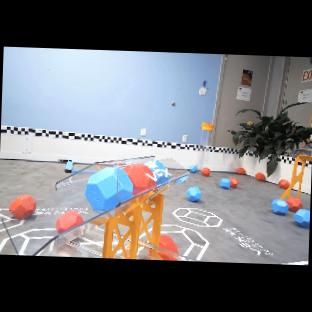Med_goal: (0, 156, 189, 256)
Parking - B: (65, 160, 79, 173), (80, 171, 95, 174)
V5_BLUE: (186, 187, 202, 202), (219, 177, 239, 189), (190, 165, 198, 173), (202, 168, 210, 176)
V5_RED: (58, 211, 83, 231), (159, 235, 178, 253), (158, 252, 177, 261), (228, 177, 239, 188), (202, 168, 210, 176), (237, 168, 245, 175)
blueingoal: (85, 167, 133, 213), (144, 161, 172, 185)
redingoal: (123, 164, 157, 196)
